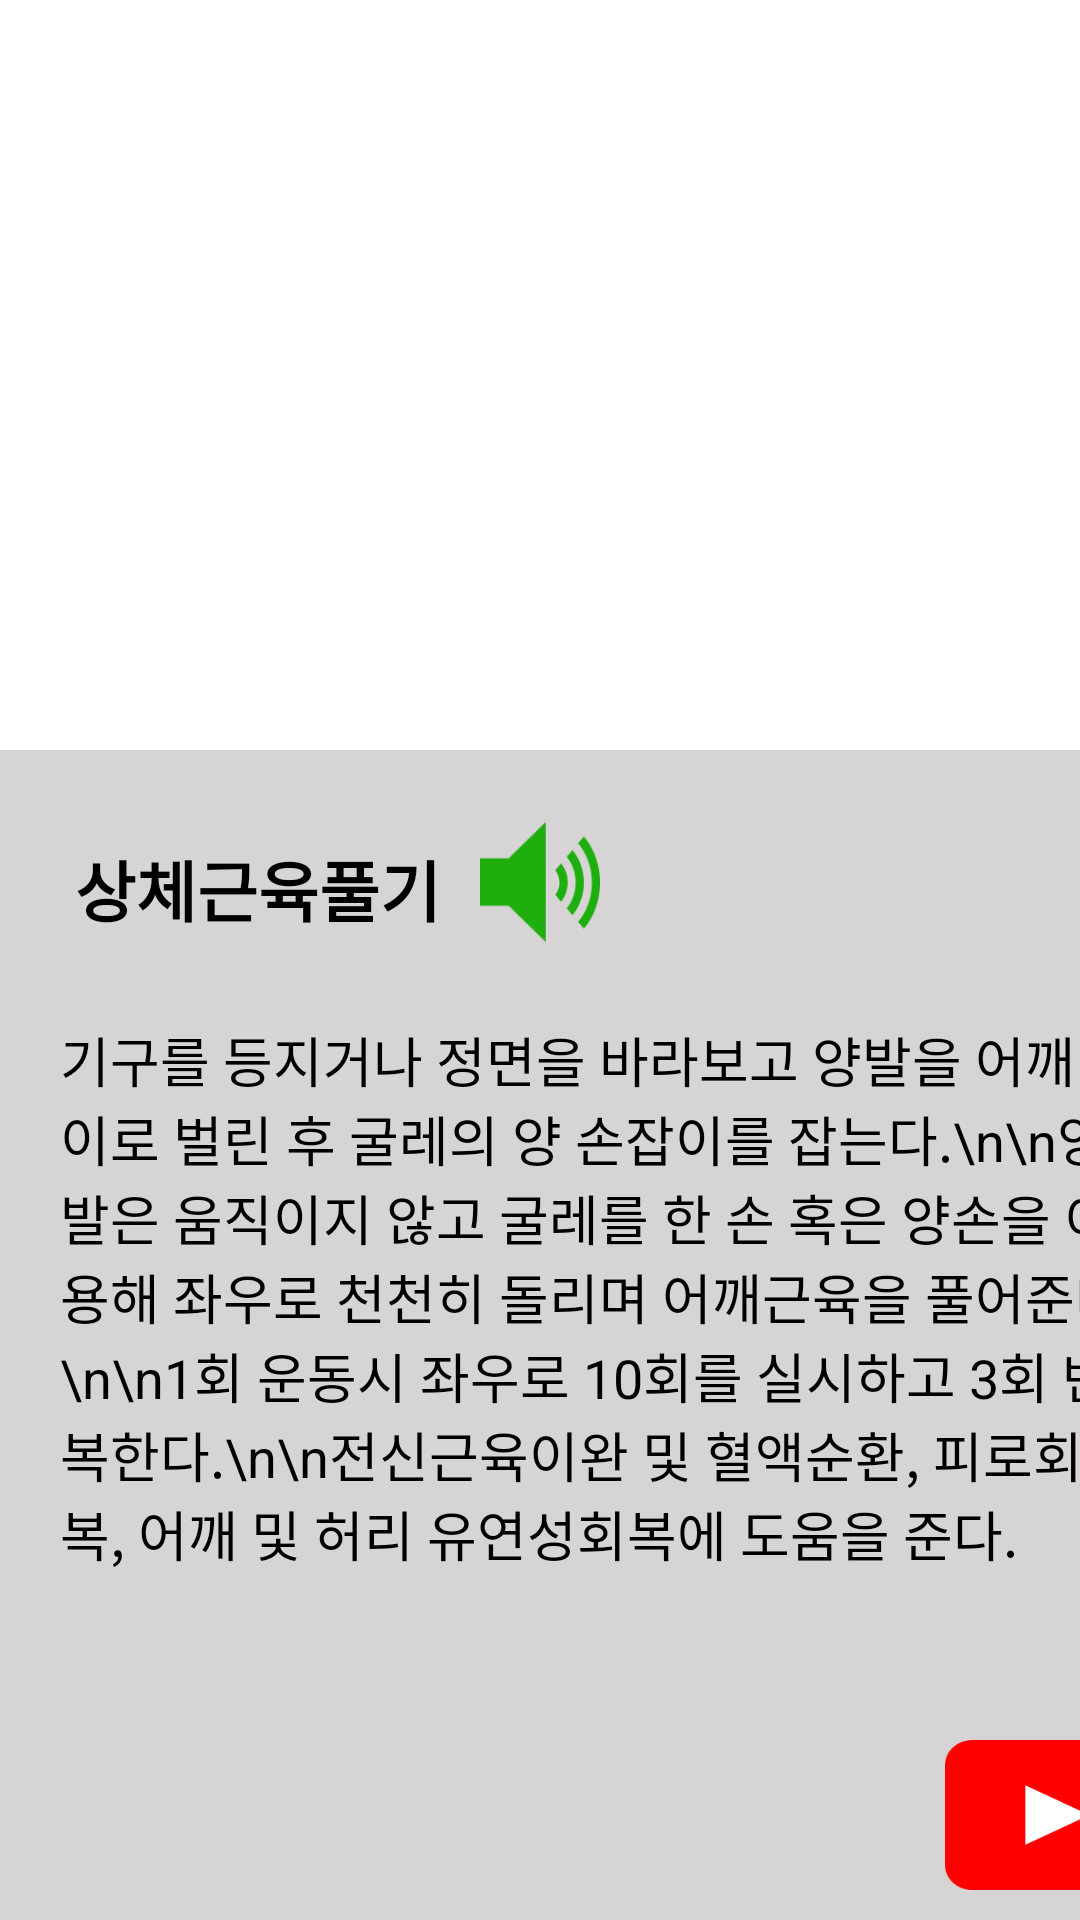

Where to tap for icons on this 1080×1920 app screen, as (x=x, y=y):
sound: (x=540, y=882)
